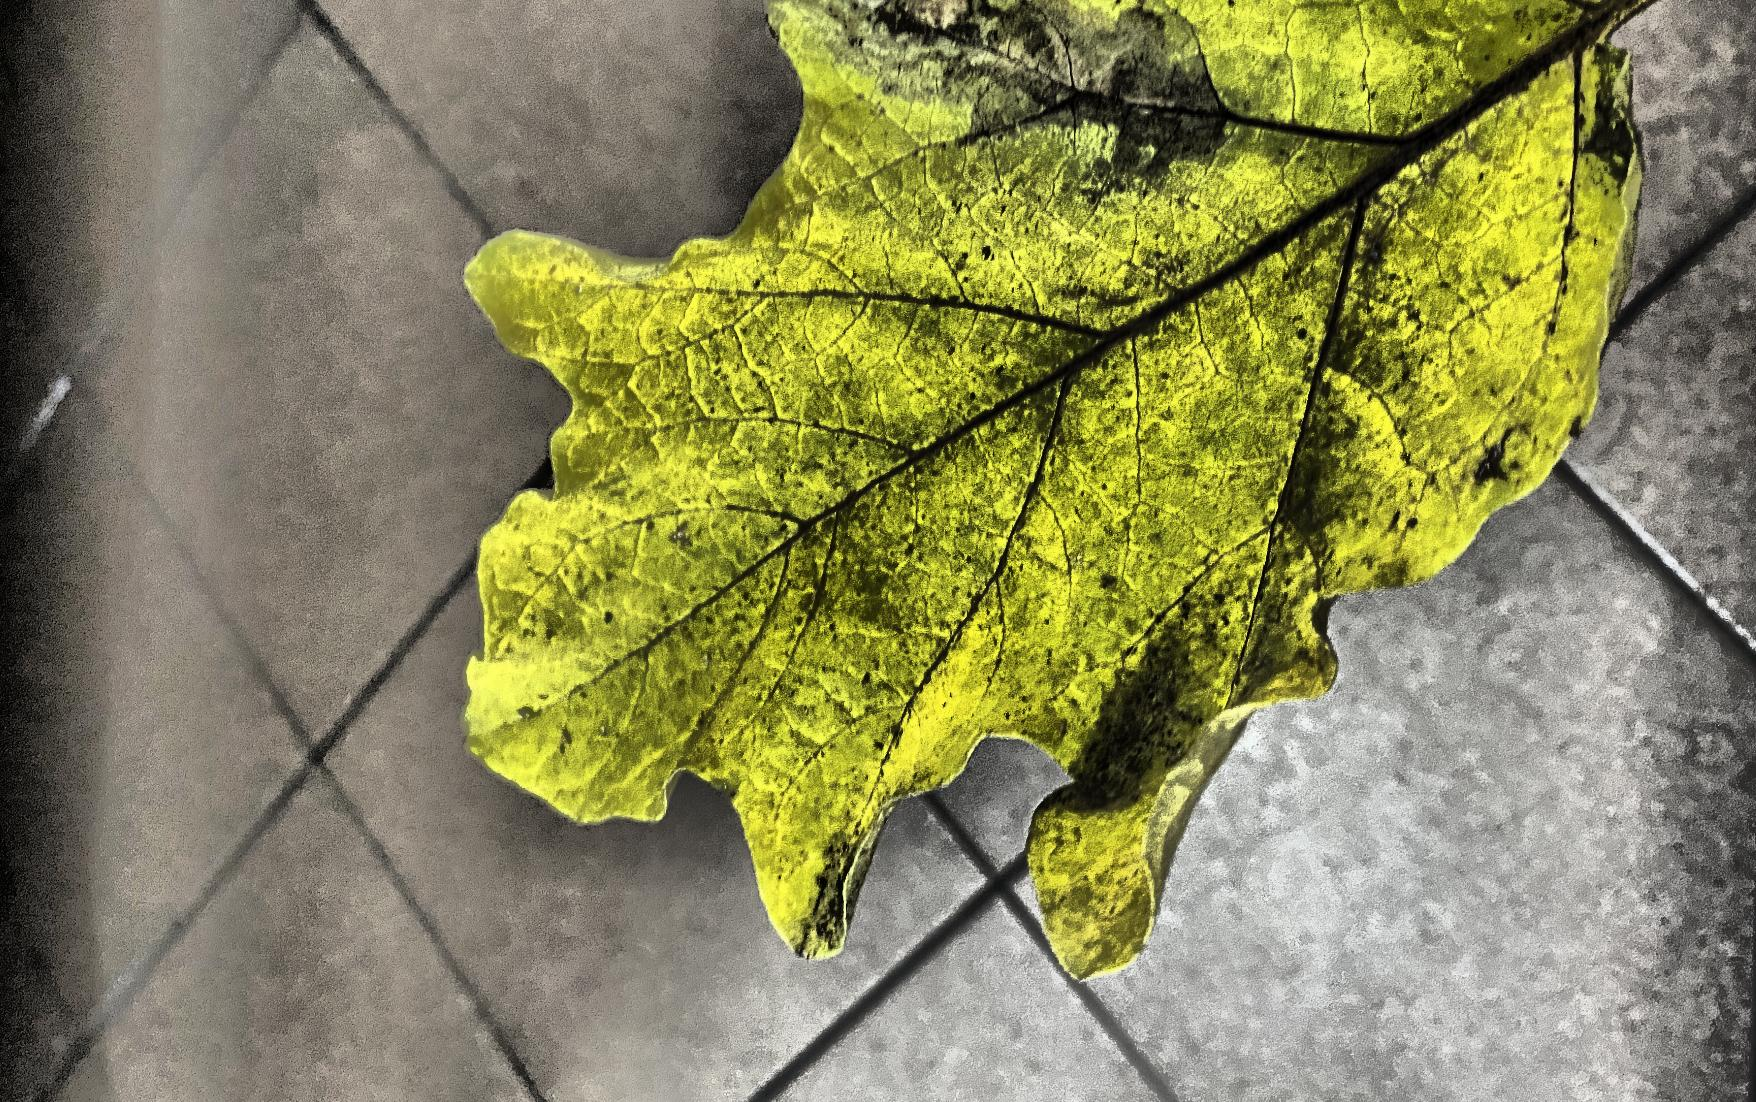Critical Stress: (0, 137, 1287, 1102)
